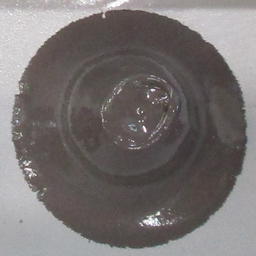perfect: (11, 7, 252, 251)
